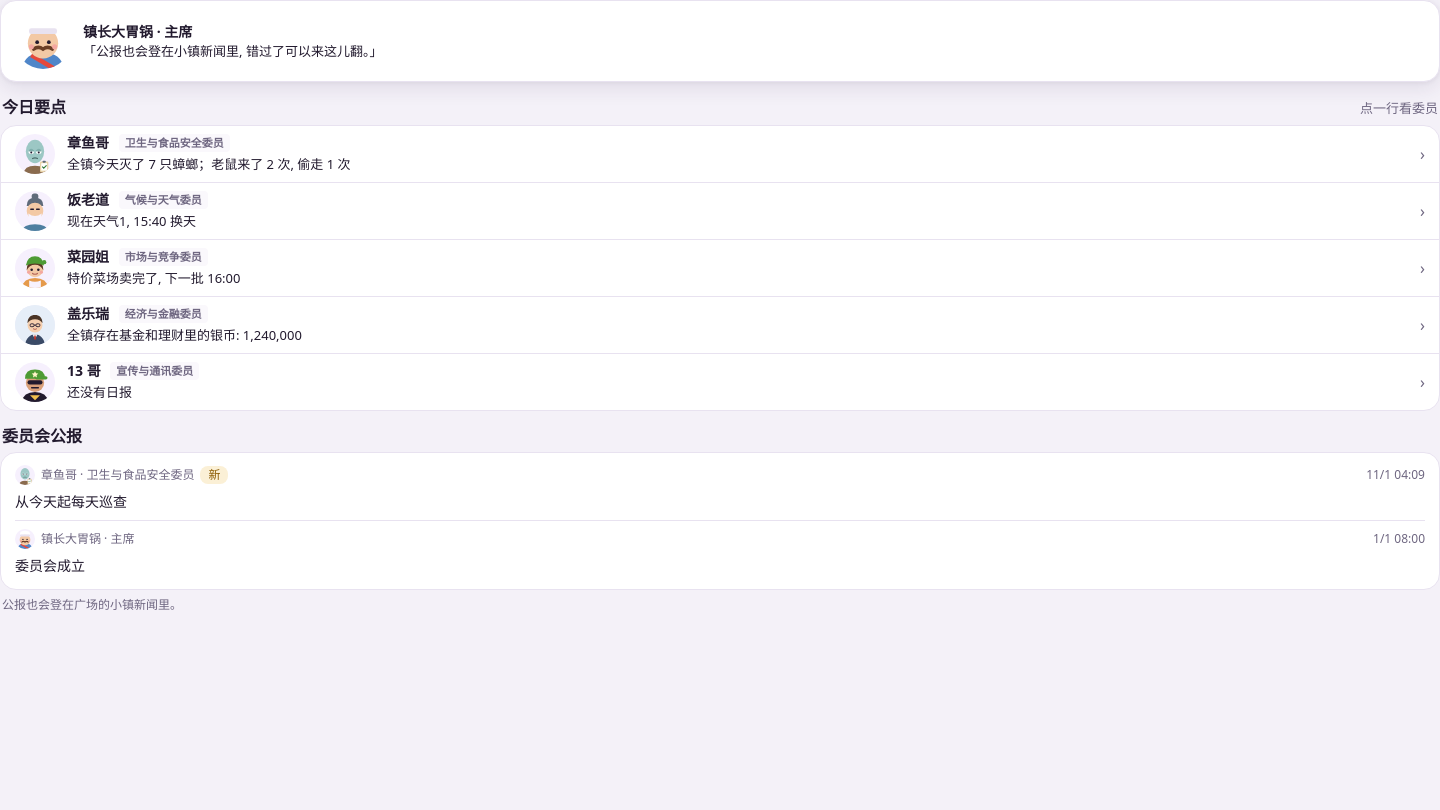
Scenario: 小镇委员会页（2026-10-16） › 点章鱼哥那一行：地址带 ?m=squid，面板里有分管、今天全镇、本店最近一次巡查，按钮去餐厅动态
The width and height of the screenshot is (1440, 810).
Click the button with test id "cm-row-squid" at [35, 154], box top-left (1, 126), bottom-right (1439, 182)
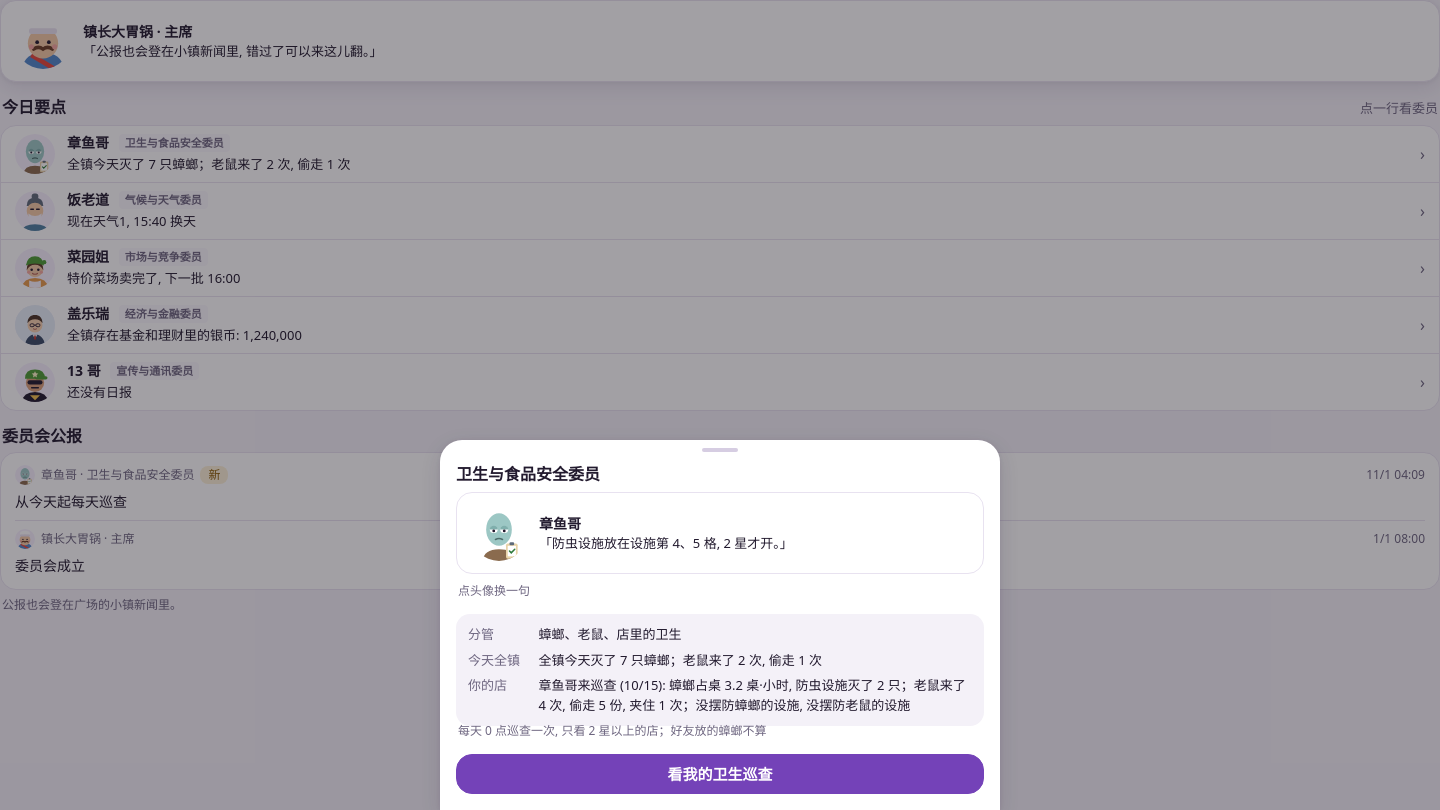
expect the element with test id "cm-sheet" shows "蟑螂、老鼠、店里的卫生": met, box top-left (538, 625), bottom-right (682, 643)
expect the text with test id "cm-mine" shows "章鱼哥来巡查 (10/15): 蟑螂占桌 3.2 桌·小时": met, box top-left (538, 676), bottom-right (966, 714)
